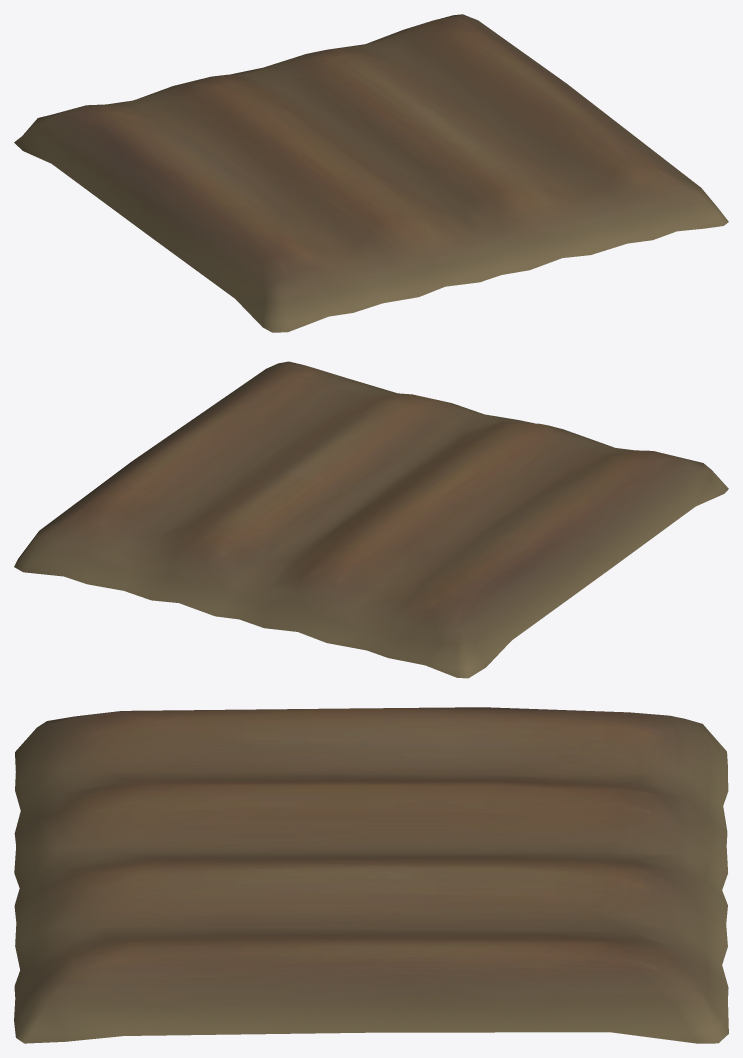
Rendered from SM_Crop_Corn_04.glb.
3 renders of one model, top to bottom at view 1: azimuth 30°, elevation 25°; view 2: azimuth 150°, elevation 25°; view 3: azimuth 270°, elevation 25°, orthographic. The views are drawn at different scales.
Visible parts, largest first — view 1: SM_Crop_Corn_04; view 2: SM_Crop_Corn_04; view 3: SM_Crop_Corn_04.
Boxes of the visible parts, bbox=[...] form: SM_Crop_Corn_04: bbox=[14, 14, 728, 332]; SM_Crop_Corn_04: bbox=[14, 361, 728, 678]; SM_Crop_Corn_04: bbox=[14, 707, 728, 1043].
Size of the model in its own units: 3.94 by 0.409 by 3.94.
1 material, 1 textured.
